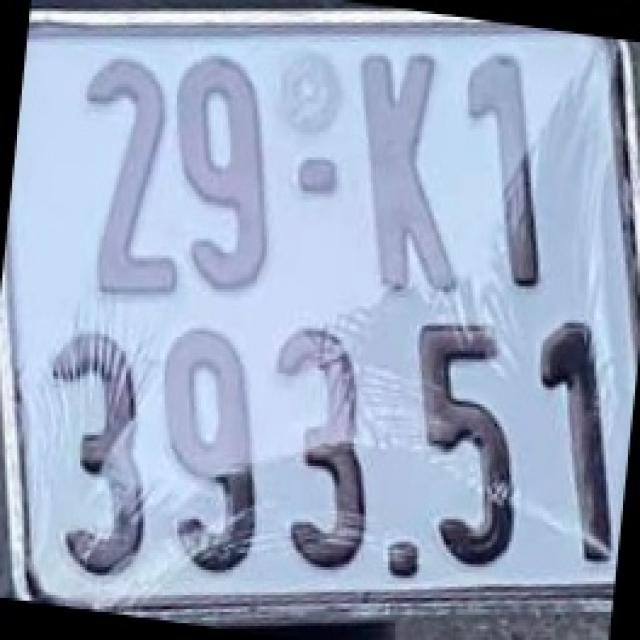1: (463, 45, 550, 292), (536, 317, 620, 564)
2: (78, 51, 184, 300)
3: (267, 317, 378, 570), (44, 320, 152, 578)
5: (410, 314, 521, 570)
9: (158, 320, 264, 575), (177, 48, 276, 294)
K: (358, 42, 461, 295)
